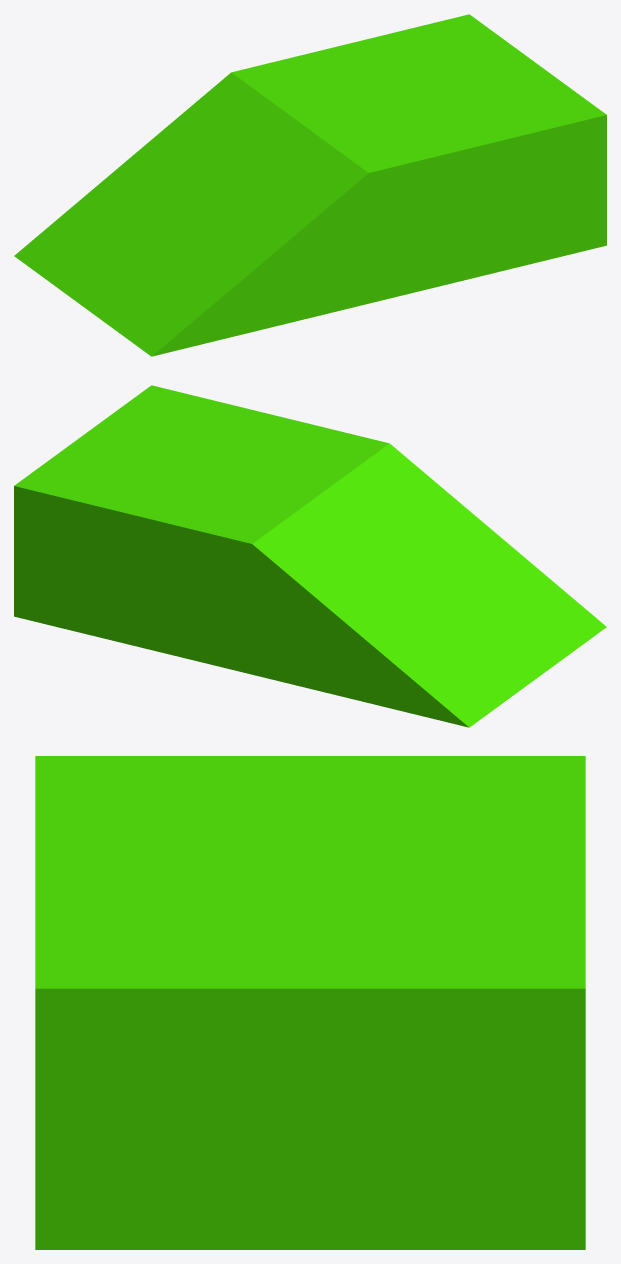
Rendered from Playergym65.fbx.
The picture shows the model from 3 angles, top to bottom: view 1: azimuth 30°, elevation 25°; view 2: azimuth 150°, elevation 25°; view 3: azimuth 270°, elevation 25°; orthographic projection. The views are drawn at different scales.
Visible parts, largest first — view 1: SM_PLayerGym.009; view 2: SM_PLayerGym.009; view 3: SM_PLayerGym.009.
Boxes of the visible parts, x1,y1,x2,y2 form: SM_PLayerGym.009: (14, 14, 606, 356); SM_PLayerGym.009: (14, 385, 606, 727); SM_PLayerGym.009: (35, 756, 585, 1249).
Size of the model in its own units: 382 by 105 by 200.
